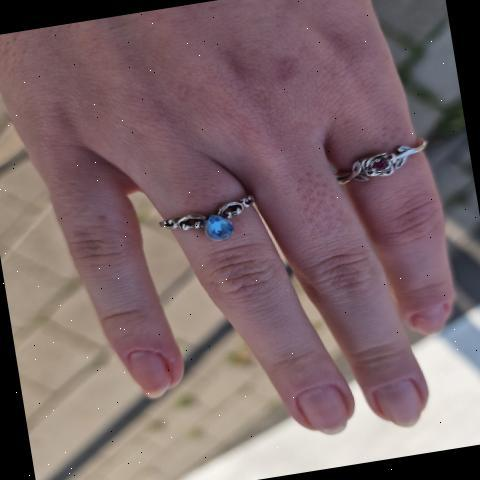Hands: (44, 0, 454, 478)
